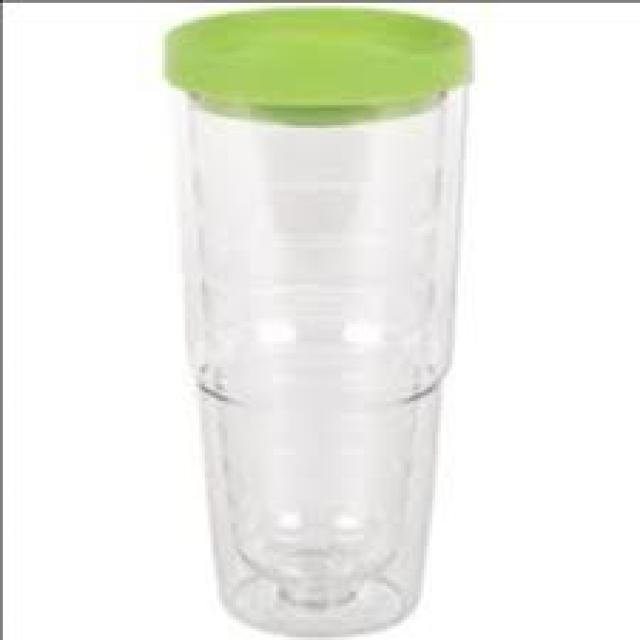bottle: (161, 4, 468, 627)
